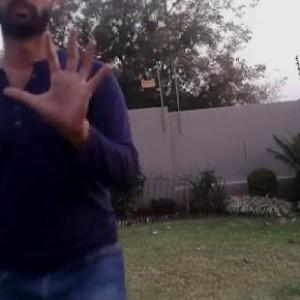follow_hand: (1, 22, 116, 131)
